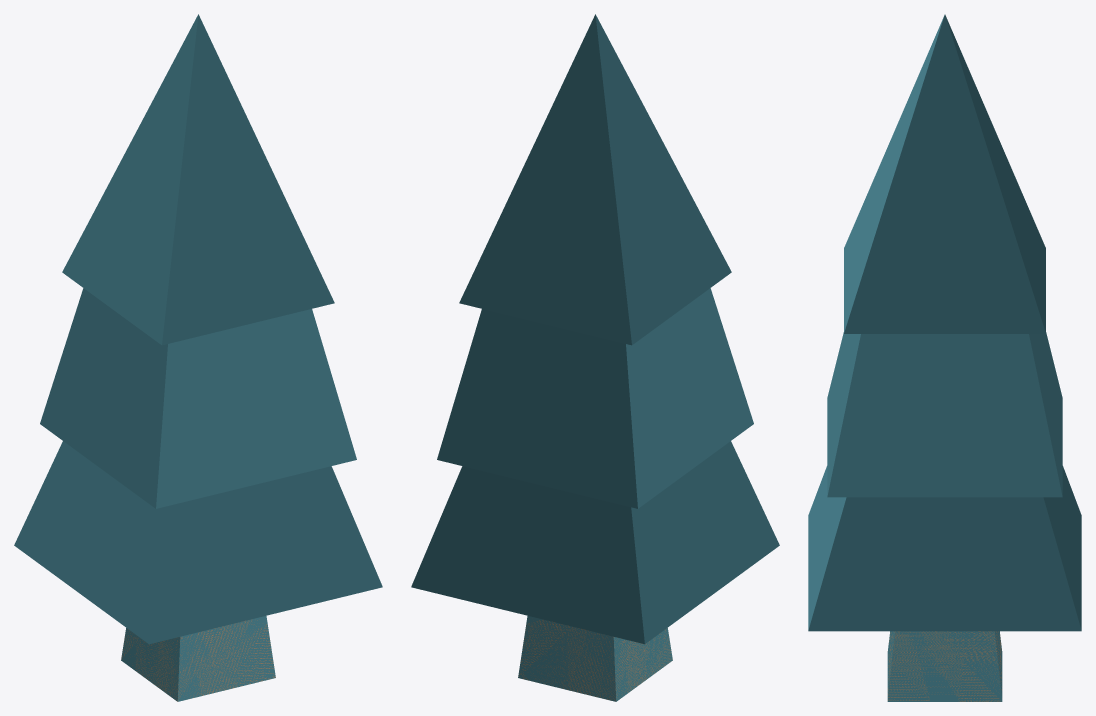
File: tree_pineSmall_square1.obj
The picture shows the model from 3 angles, left to right: view 1: azimuth 30°, elevation 25°; view 2: azimuth 150°, elevation 25°; view 3: azimuth 270°, elevation 25°; orthographic projection.
Visible parts, largest first — view 1: tree_pineSmall_square1; view 2: tree_pineSmall_square1; view 3: tree_pineSmall_square1.
Part boxes in pixels (x1=…): tree_pineSmall_square1: x1=14, y1=14, x2=382, y2=701; tree_pineSmall_square1: x1=411, y1=14, x2=779, y2=701; tree_pineSmall_square1: x1=808, y1=14, x2=1081, y2=701.
Bounding box in the file's own units: 3.57 × 9.56 × 3.57.
